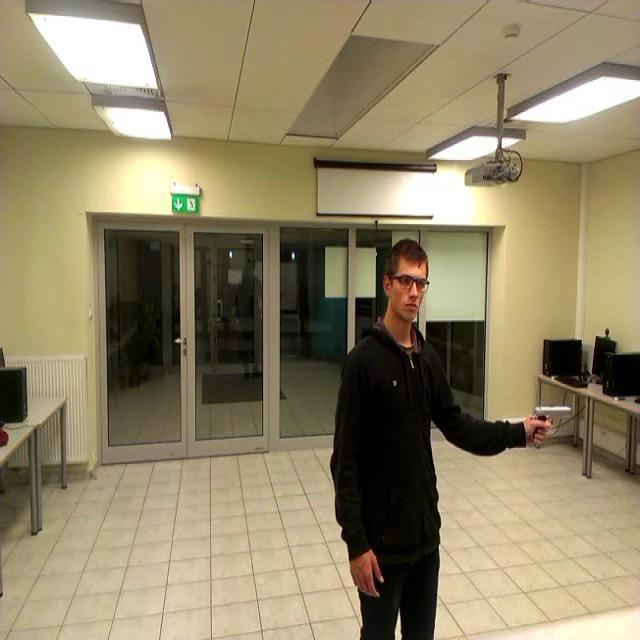weapon: (530, 407, 572, 452)
